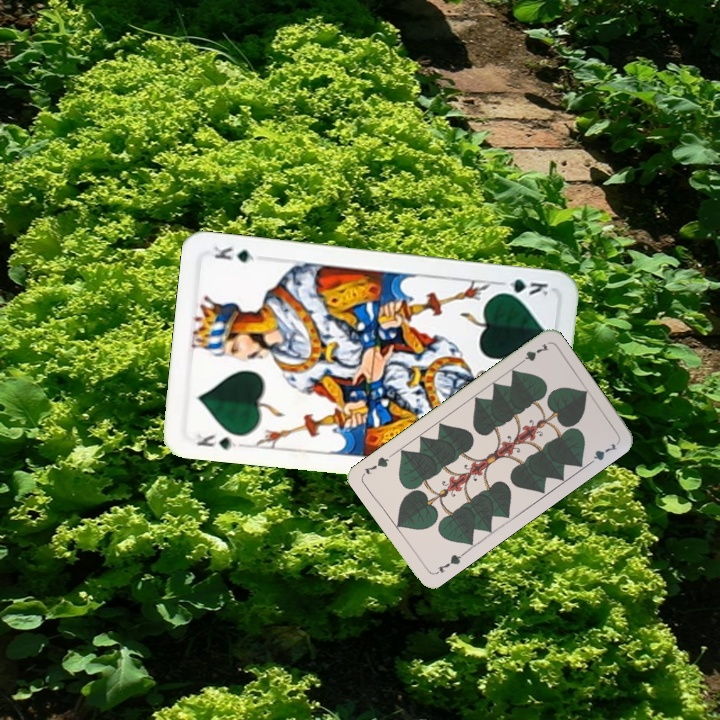G7: (513, 339, 551, 368), (431, 549, 467, 577)
GK: (493, 274, 551, 298), (193, 429, 239, 452)
